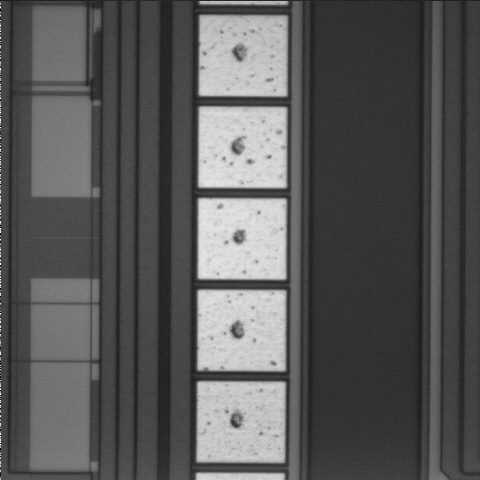pad: (198, 198, 286, 279), (198, 290, 286, 371), (199, 107, 286, 188), (199, 16, 287, 96), (197, 382, 285, 462)
